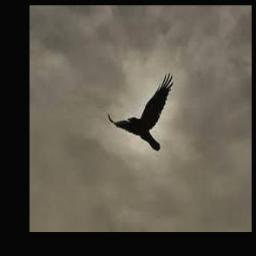Crow: (108, 73, 173, 151)
